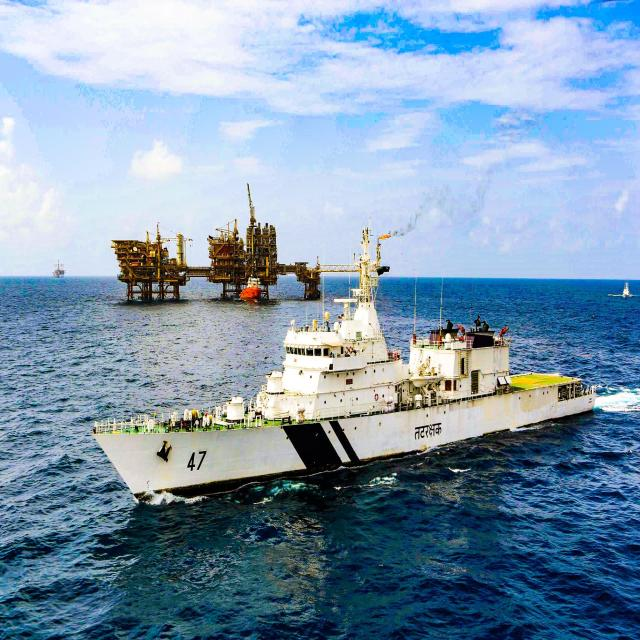Patrol-Vessel-L-T-Class-IND: (77, 230, 599, 507)
